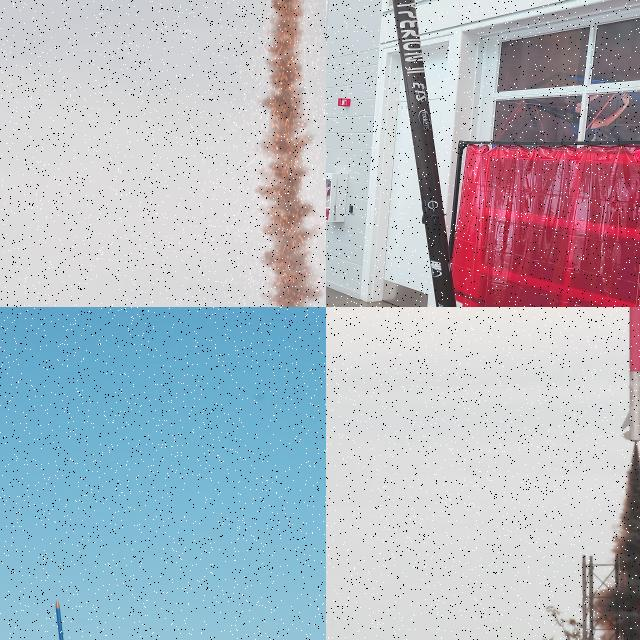Rocket: (393, 0, 457, 307), (621, 307, 640, 442), (54, 599, 73, 640)
